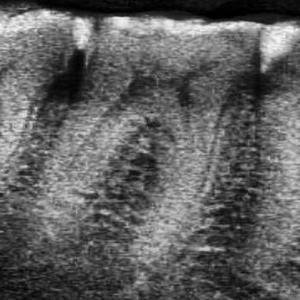tooth: (39, 16, 266, 254)
